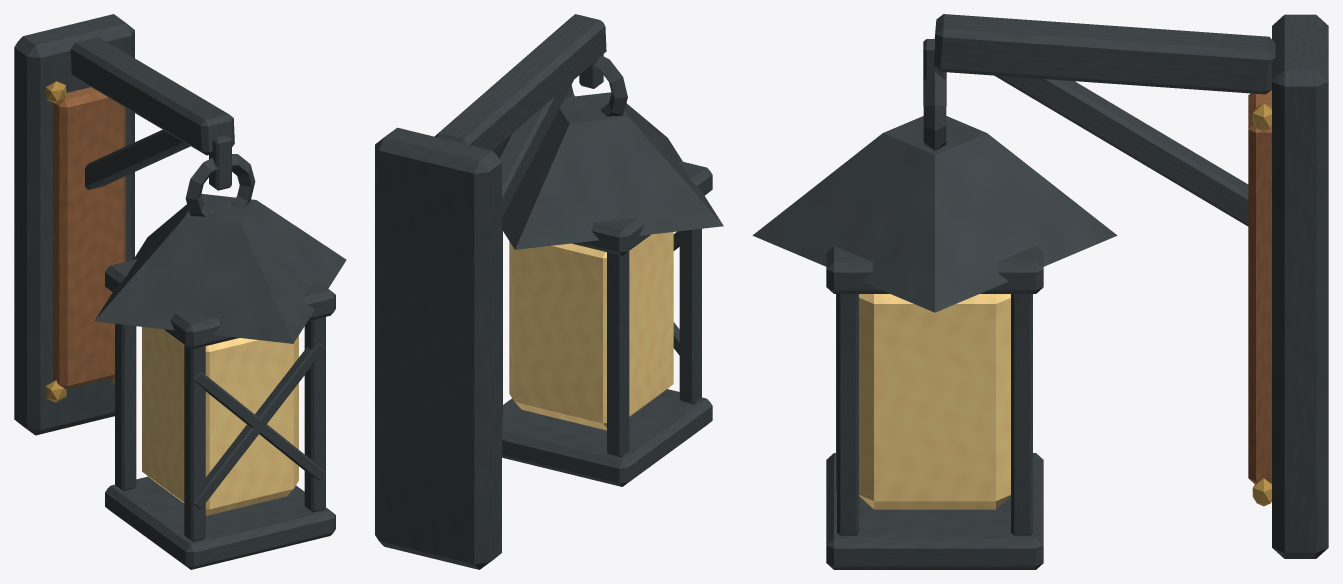
Rendered from lantern_wall.glb.
The picture shows the model from 3 angles, left to right: view 1: azimuth 30°, elevation 25°; view 2: azimuth 150°, elevation 25°; view 3: azimuth 270°, elevation 25°; orthographic projection. The views are drawn at different scales.
Visible parts, largest first — view 1: lantern_wall; view 2: lantern_wall; view 3: lantern_wall.
Boxes of the visible parts, x1,y1,x2,y2 form: lantern_wall: (14,14,346,569); lantern_wall: (375,14,723,569); lantern_wall: (752,14,1328,569).
Bounding box in the file's own units: 0.42 × 0.6468 × 0.6625.
Materials: 1 (1 with a texture image).
